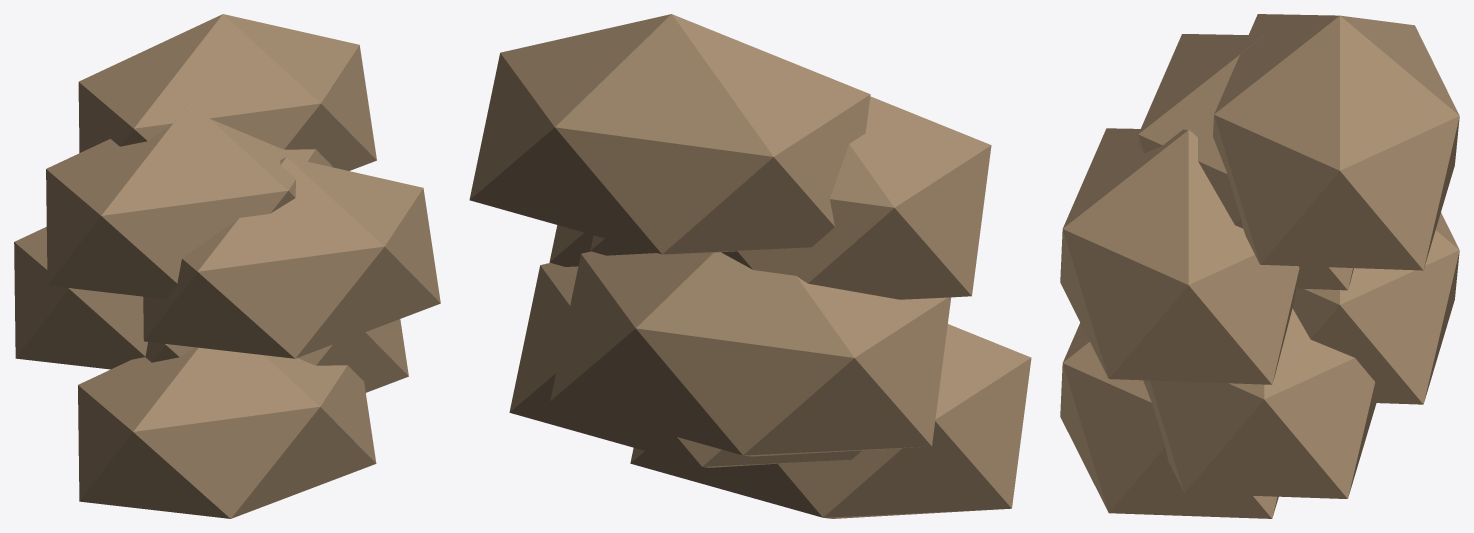
Rendered from item_027_roasted_roots_l.glb.
The picture shows the model from 3 angles, left to right: view 1: azimuth 30°, elevation 25°; view 2: azimuth 150°, elevation 25°; view 3: azimuth 270°, elevation 25°; orthographic projection. The views are drawn at different scales.
Visible parts, largest first — view 1: item_027_roasted_roots_l; view 2: item_027_roasted_roots_l; view 3: item_027_roasted_roots_l.
Boxes of the visible parts, x1=… form: item_027_roasted_roots_l: x1=14, y1=14, x2=440, y2=518; item_027_roasted_roots_l: x1=469, y1=14, x2=1031, y2=518; item_027_roasted_roots_l: x1=1060, y1=14, x2=1459, y2=518.
Size of the model in its own units: 0.3738 by 0.4499 by 0.3168.
